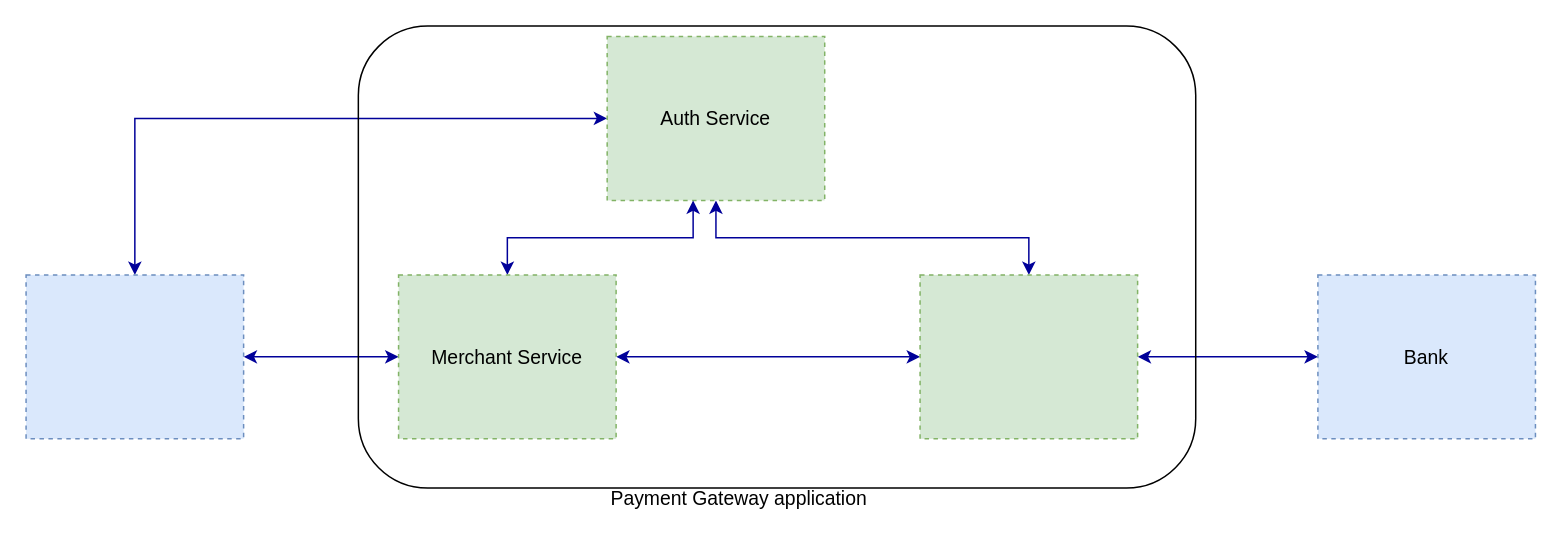
Image size: 1562x539. Some labels were removed from this diagram. Here are the shapes that lost their labels. From the top down, the box of each, then its label:
(25, 273, 244, 439): Merchant
(919, 273, 1138, 439): Bank Service
